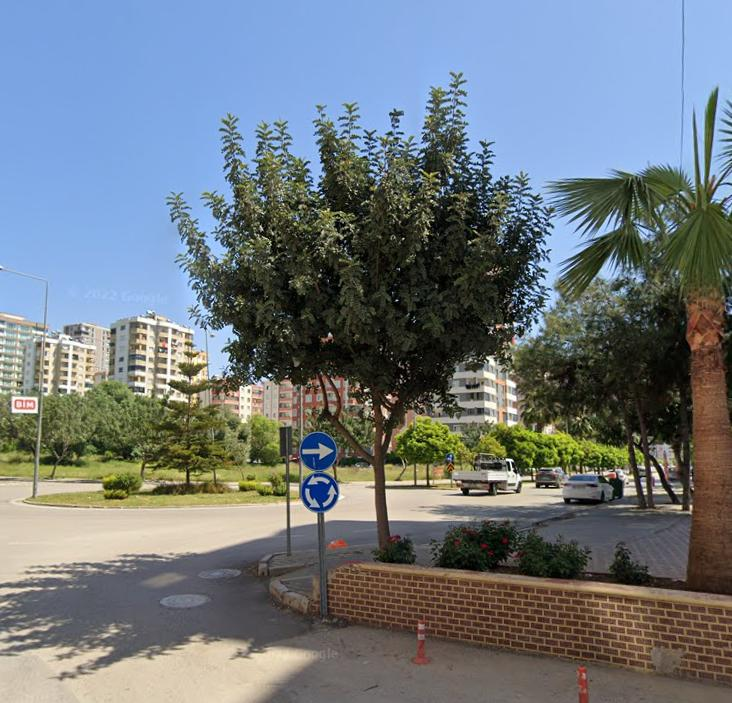crossroads: (302, 474, 338, 511)
turnright: (303, 434, 337, 470)
